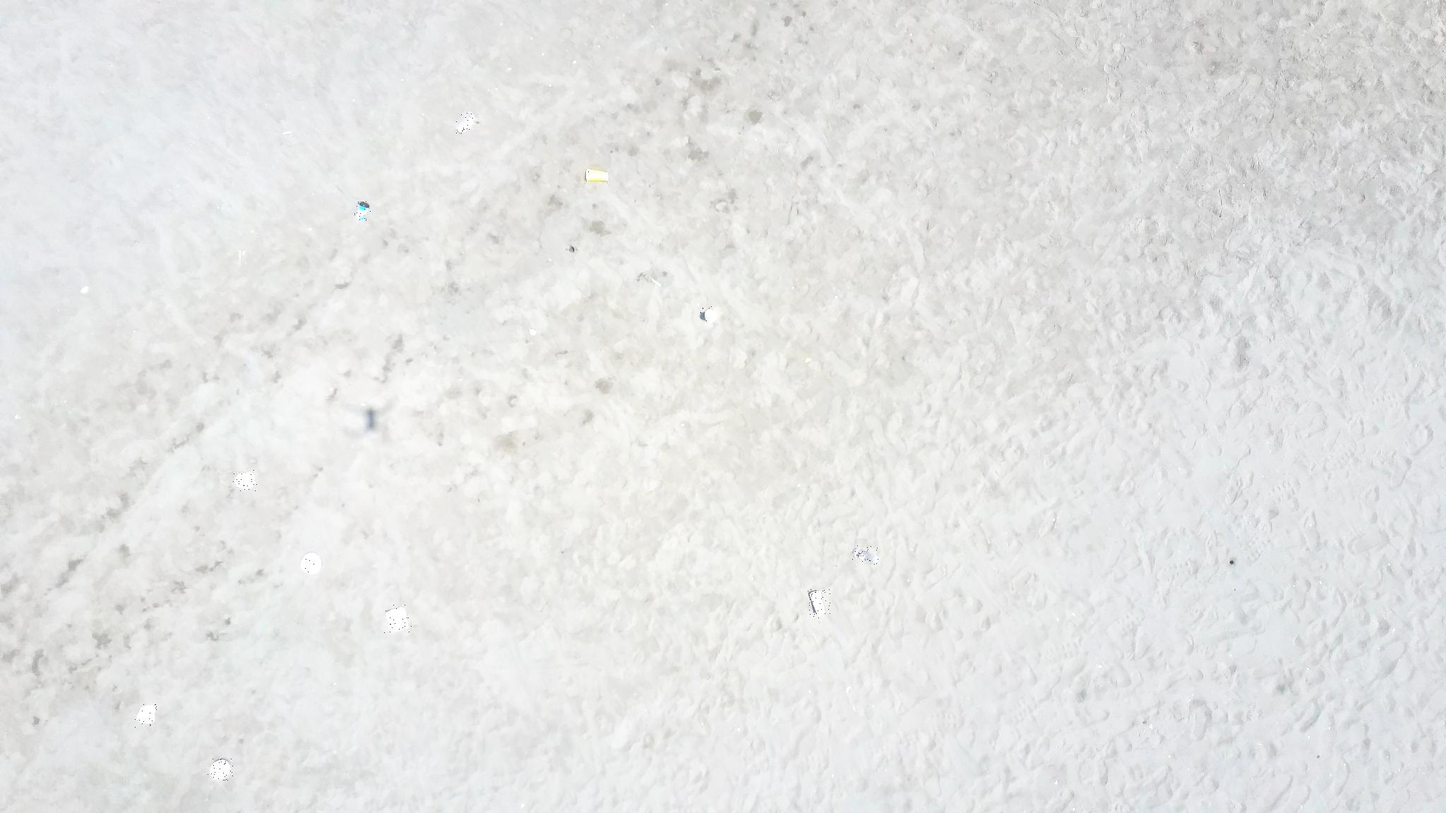Garbage: (385, 606, 408, 632), (808, 590, 831, 615), (208, 759, 232, 781), (853, 546, 880, 564), (232, 470, 256, 489), (455, 112, 477, 132), (301, 553, 321, 574), (137, 703, 154, 725), (355, 201, 369, 222), (585, 169, 607, 182), (700, 306, 717, 320)
